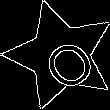O_NW: (26, 22, 94, 89)
